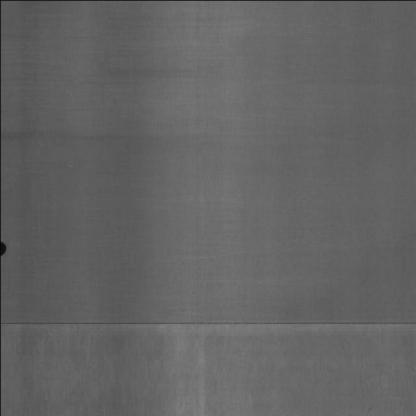punching_hole: (0, 239, 7, 261)
welding_line: (0, 308, 416, 338)
